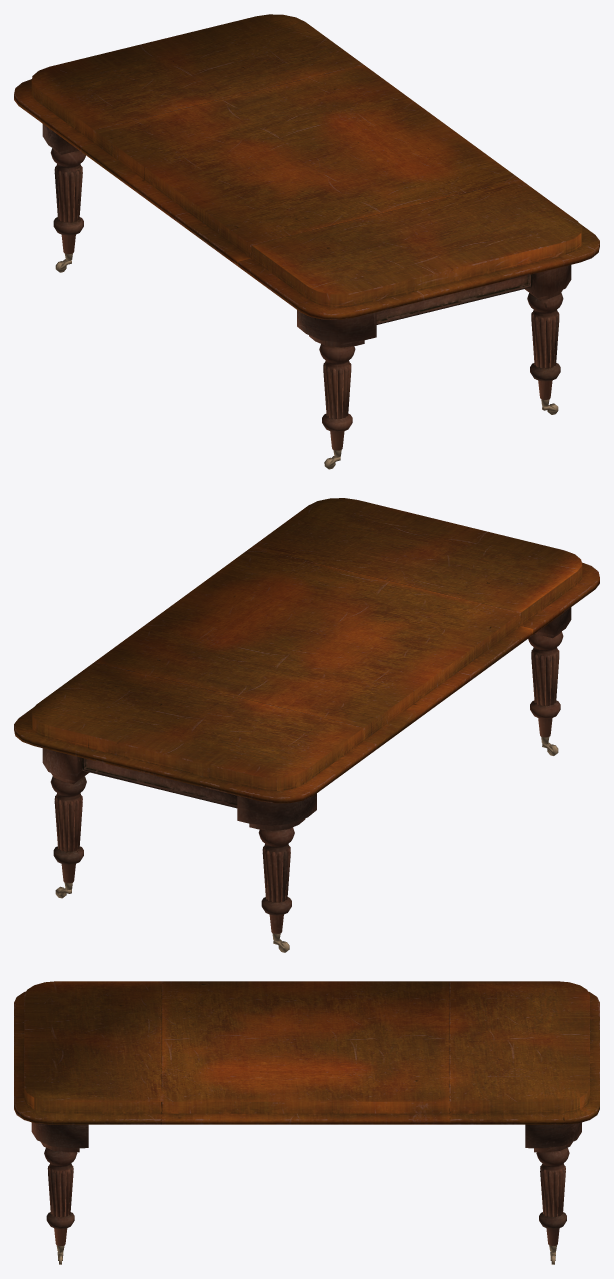
File: mesa_retangular.obj
3 views of the same model, one above another, from view 1: azimuth 30°, elevation 25°; view 2: azimuth 150°, elevation 25°; view 3: azimuth 270°, elevation 25° (orthographic). The views are drawn at different scales.
Parts seen in each view (by area): view 1: Test-material; view 2: Test-material; view 3: Test-material.
Boxes of the visible parts, x1,y1,x2,y2 form: Test-material: (14, 14, 599, 469); Test-material: (14, 498, 599, 952); Test-material: (14, 981, 599, 1264).
Bounding box in the file's own units: 2.72 × 1.66 × 5.1.
1 material, 1 textured.
